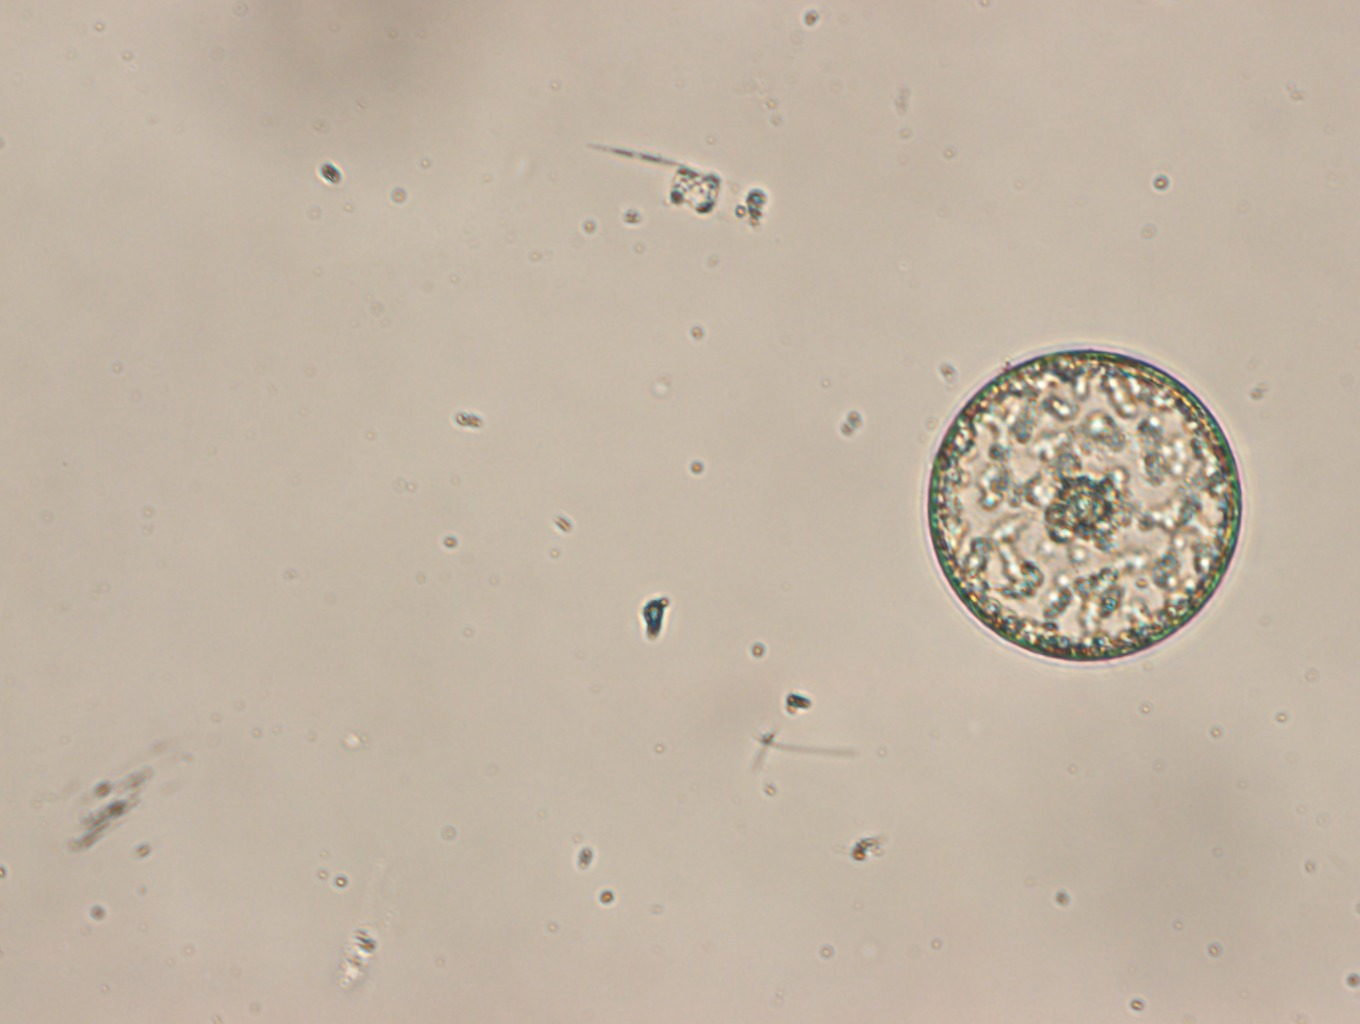coscinodiscus: (924, 342, 1243, 666)
